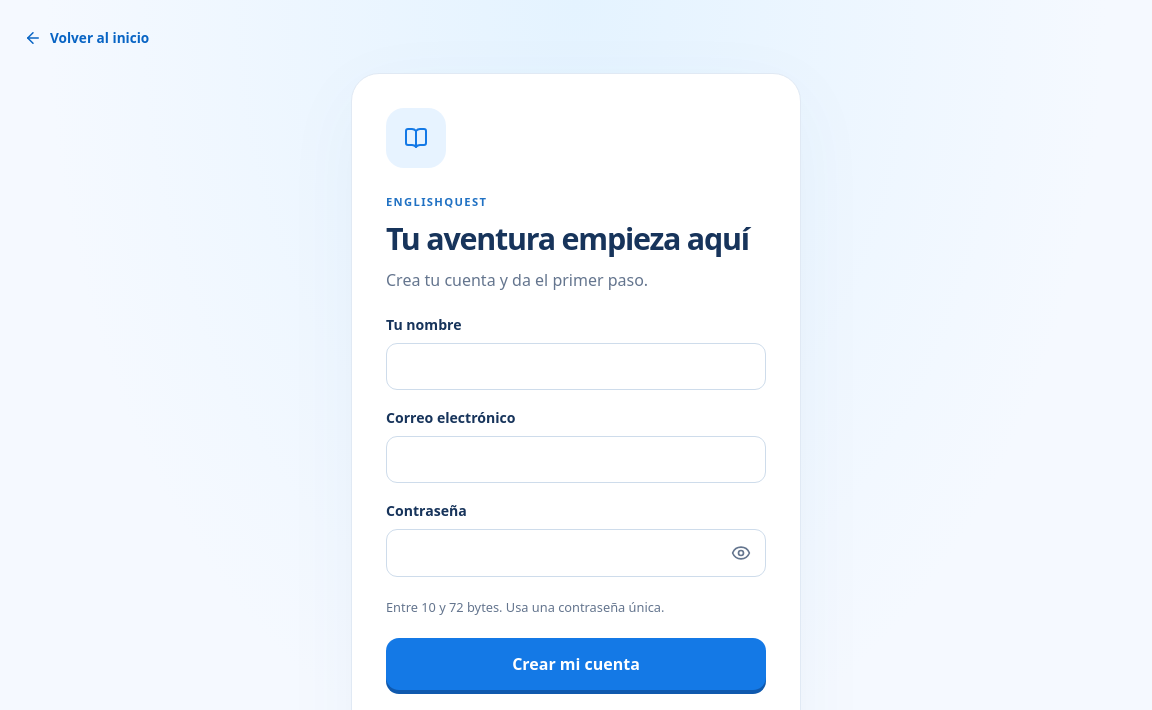
Authentication forms › registers and navigates to login without storing a password
The image size is (1152, 710).
Step 1. Type "Alex" into the field labelled "Tu nombre" → [576, 367], box x1=386 y1=343 x2=766 y2=390
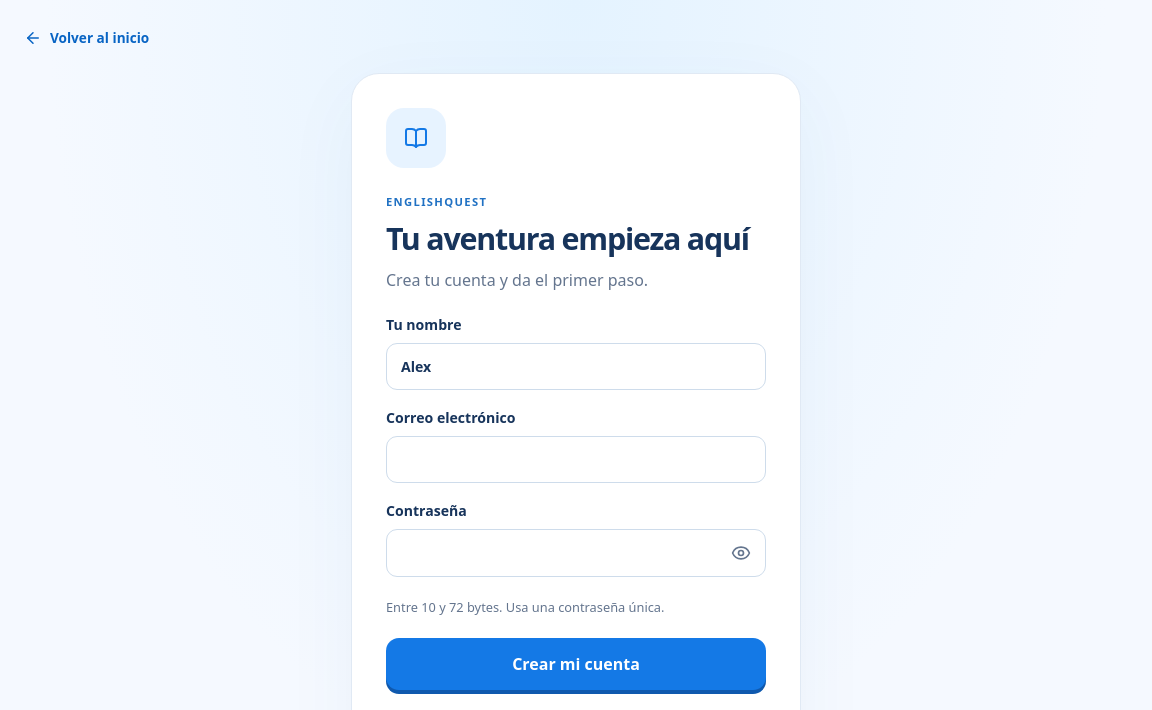
Step 2. Type "alex@example.org" into the field labelled "Correo electrónico" → [576, 460], box x1=386 y1=436 x2=766 y2=483
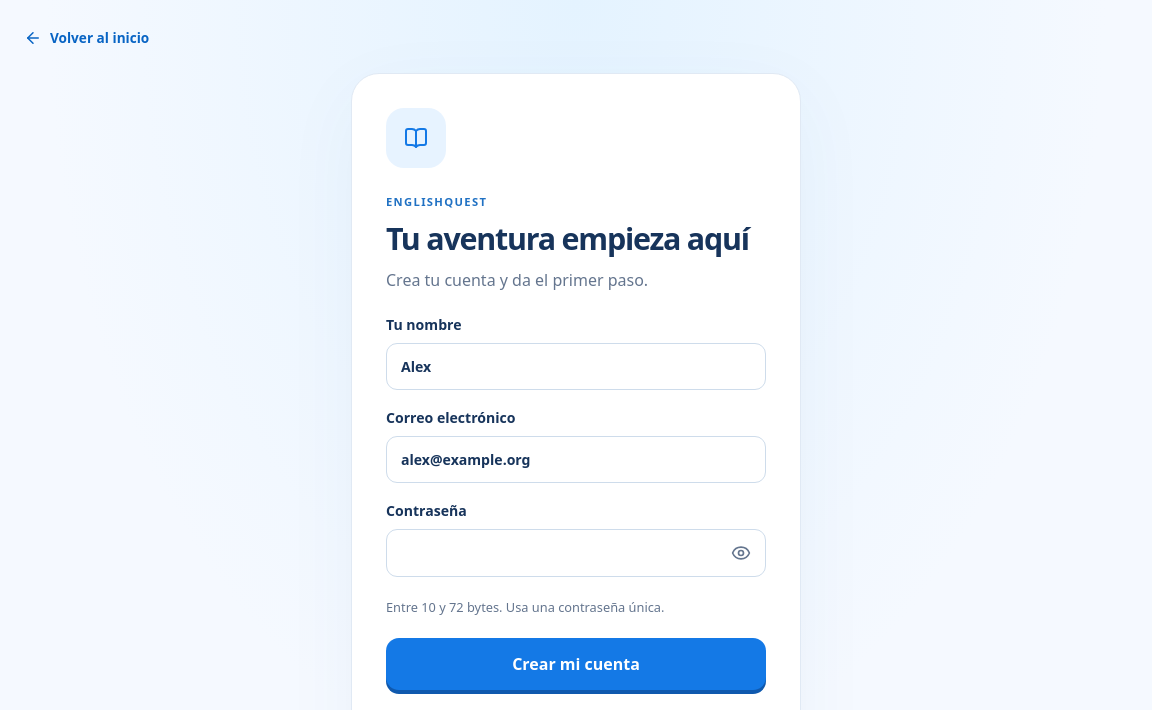
Step 3. Type "test-password-42" into the password field labelled "Contraseña" → [576, 553], box x1=386 y1=529 x2=766 y2=576
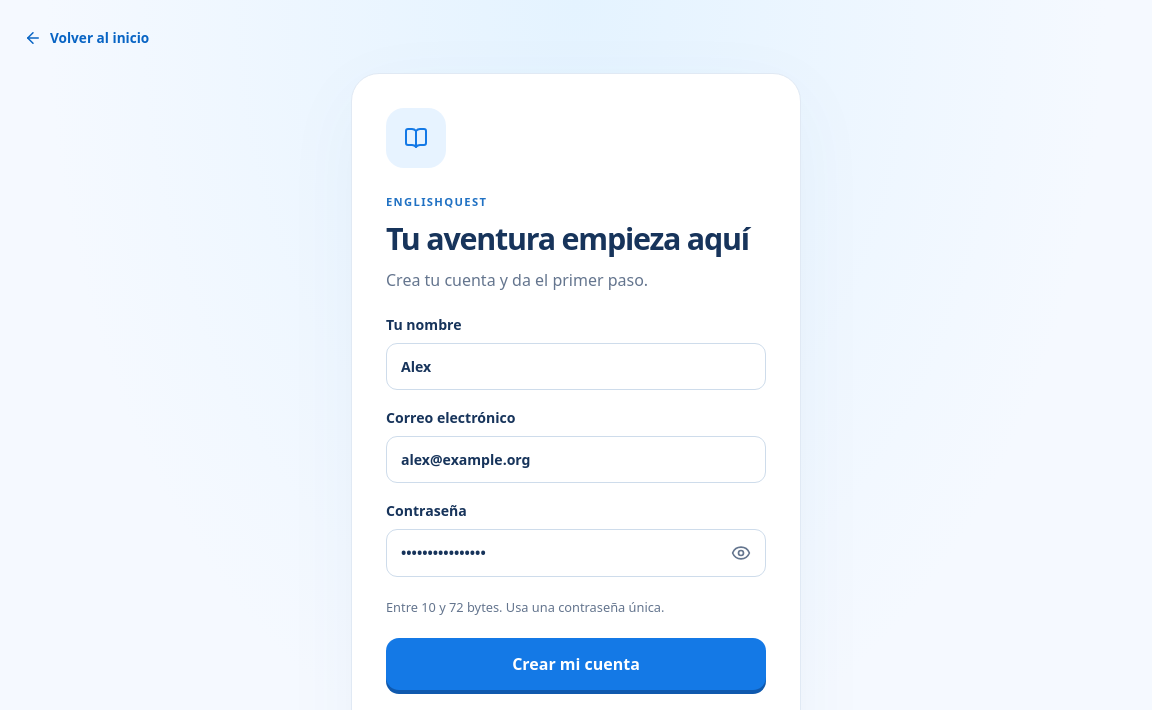
Step 4. Submit the form named "Crear mi cuenta", box x1=386 y1=314 x2=766 y2=690
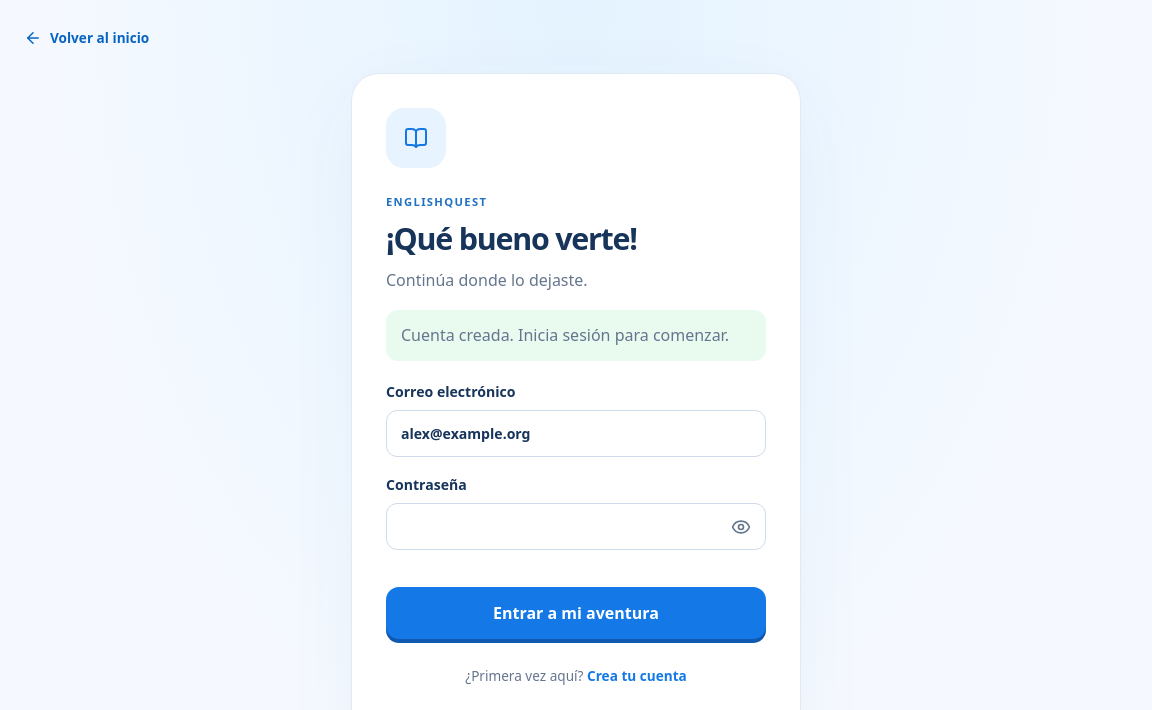
Check: the text "Cuenta creada. Inicia sesión para comenzar." is shown, box x1=386 y1=310 x2=766 y2=361
Check: the password field labelled "Contraseña" is empty, box x1=386 y1=503 x2=766 y2=550
